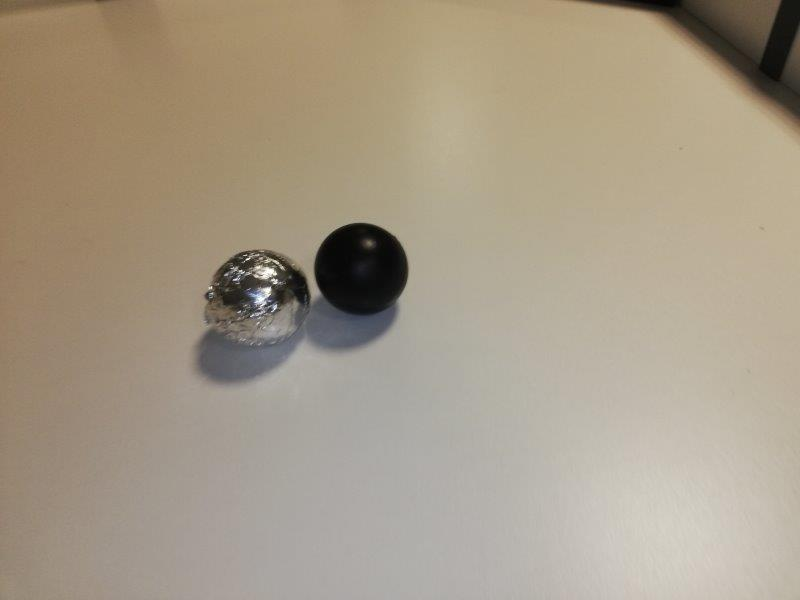bianca: (204, 247, 308, 347)
nera: (316, 222, 407, 314)
